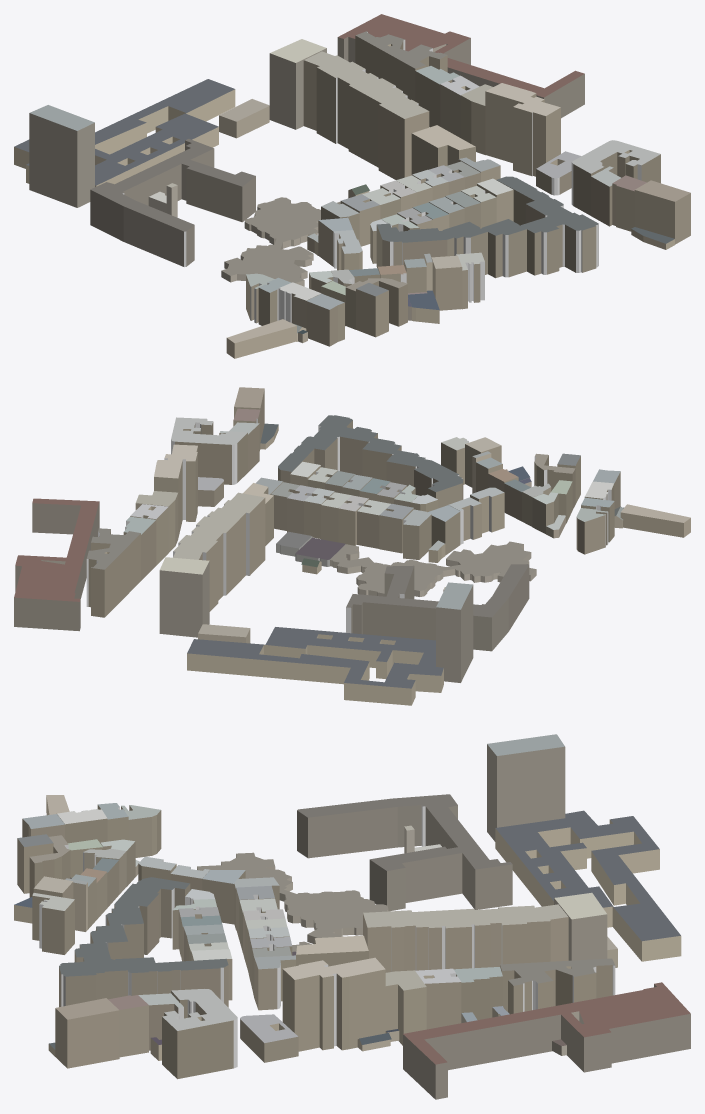
3 views of the same model, one above another, from view 1: azimuth 30°, elevation 25°; view 2: azimuth 150°, elevation 25°; view 3: azimuth 270°, elevation 25° (orthographic). The views are drawn at different scales.
Parts seen in each view (by area): view 1: tuile; view 2: tuile; view 3: tuile.
Boxes of the visible parts, x1,y1,x2,y2 form: tuile: [14, 14, 690, 358]; tuile: [14, 387, 690, 705]; tuile: [14, 734, 690, 1099].
Bounding box in the file's own units: 304 × 46.32 × 300.
